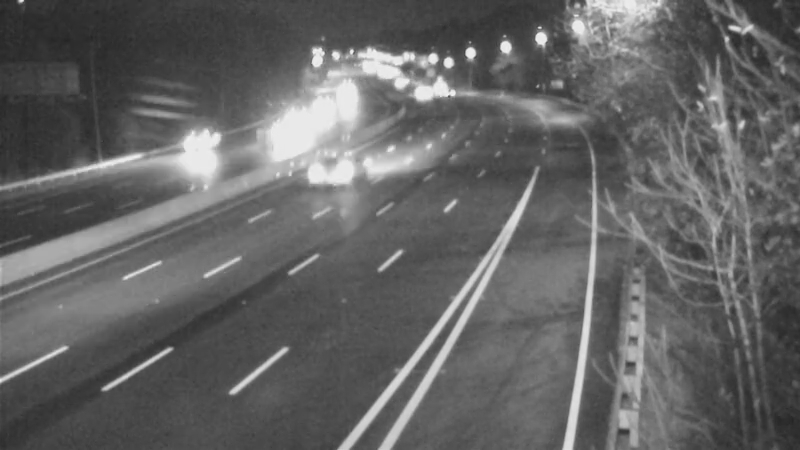vehicle: (280, 133, 360, 213), (395, 66, 445, 116), (164, 123, 214, 173), (254, 121, 304, 171)
